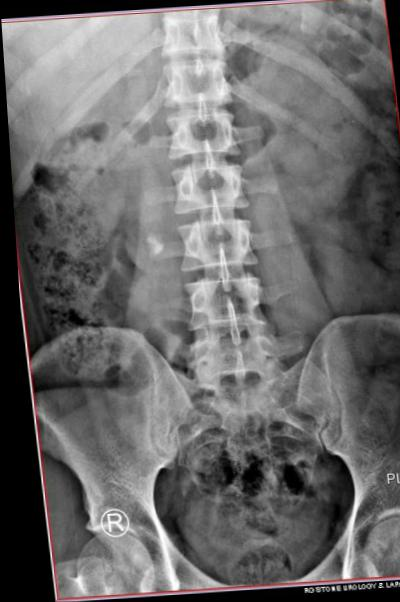vertebrae: (159, 107, 243, 164)
